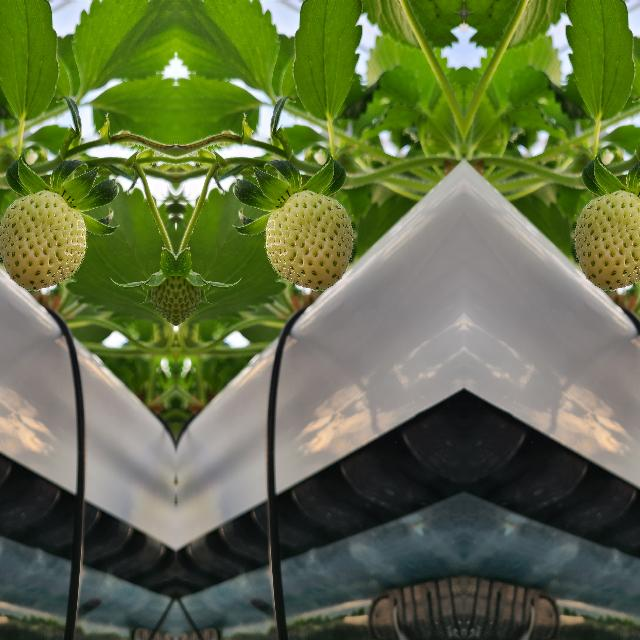Health_25: (262, 190, 354, 292), (0, 189, 88, 292), (572, 189, 640, 292), (175, 264, 201, 334), (149, 264, 175, 334)
